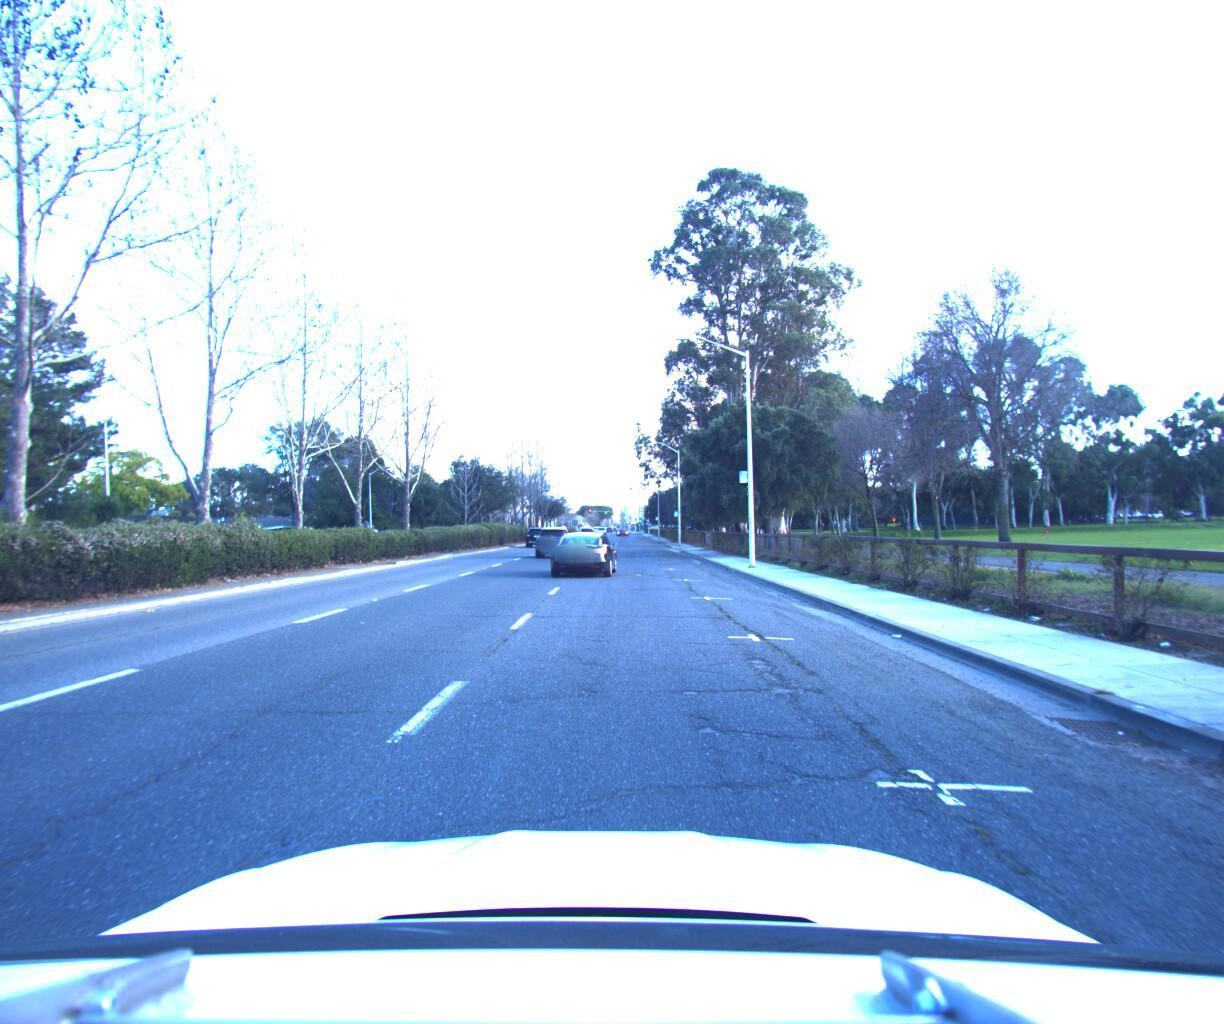car: (547, 524, 616, 574), (535, 518, 576, 552), (526, 519, 554, 539)
